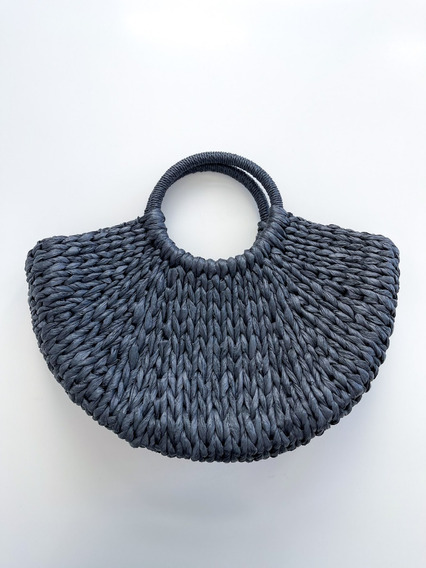cartera: (24, 149, 401, 465)
